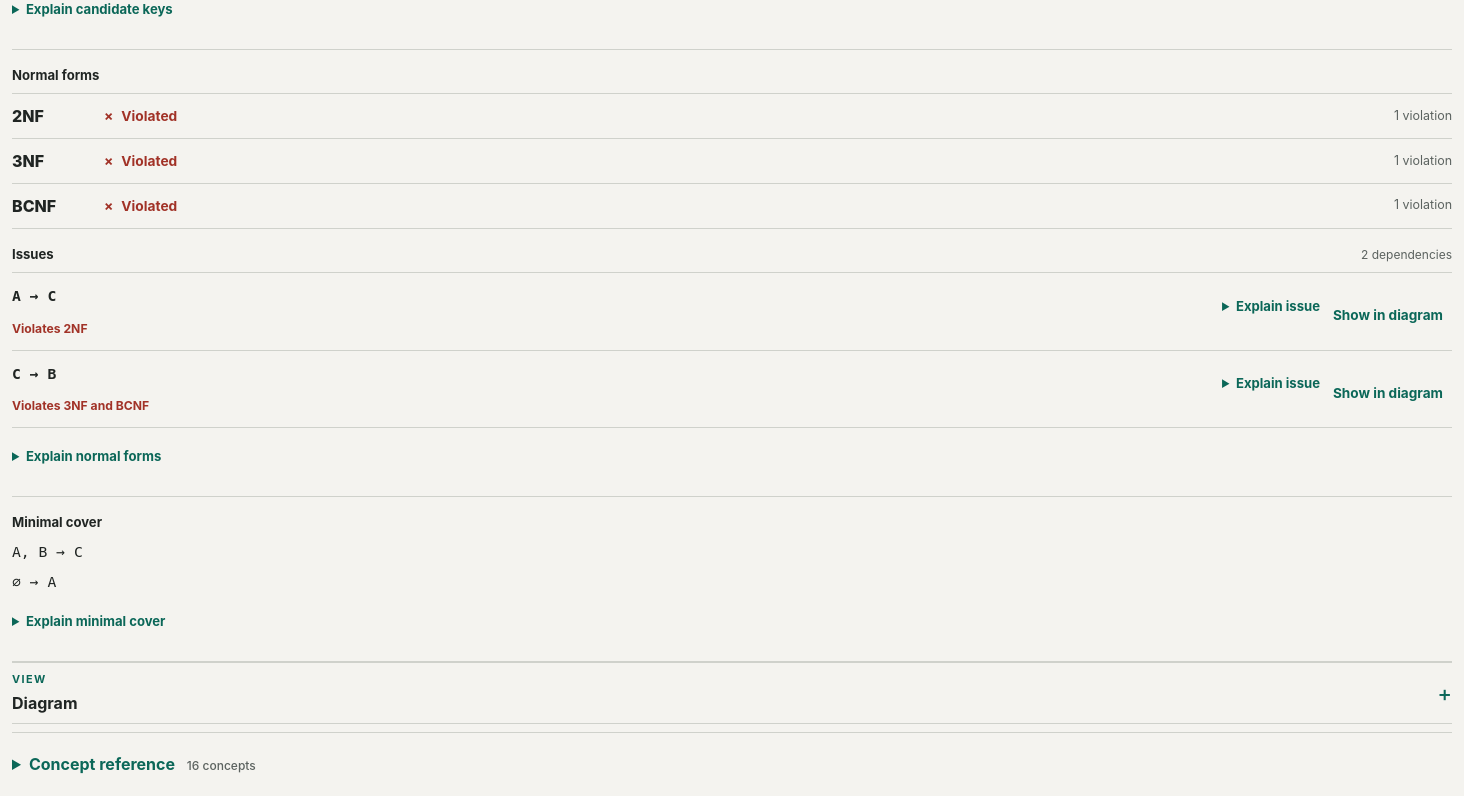
it: schema visualization › gives the diagram an accessible name, textual equivalents and an explicit composite determinant
(page scrolled)
Click the button "View Diagram +".
click(29, 679)  # box [12,663,1452,723]
(page scrolled)
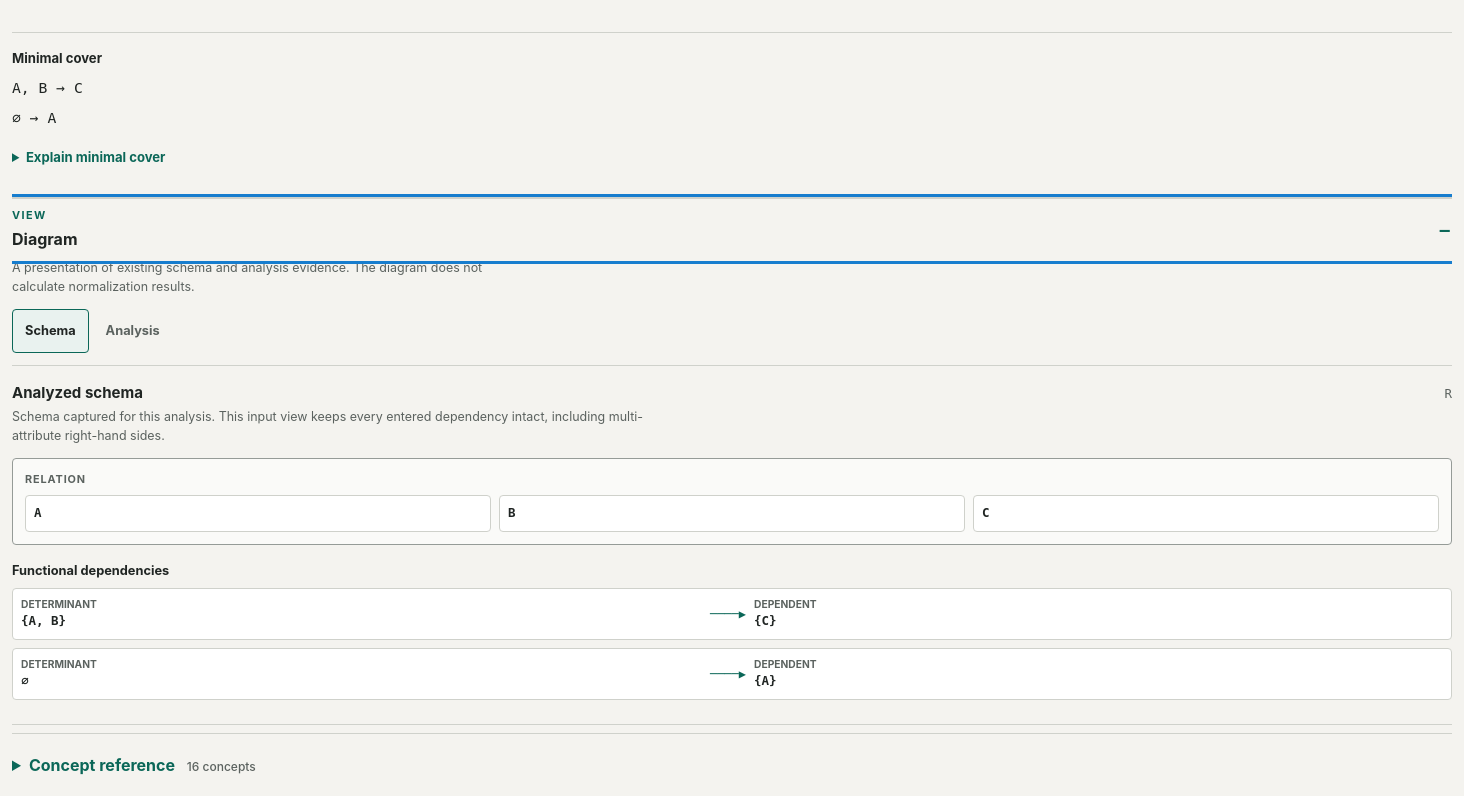
Expected: the element "Analyzed schema" is shown, [12,382,1452,700]
Expected: the text "{A, B}" is shown, [21,613,66,628]
Expected: the text "∅" is shown, [21,673,28,688]
